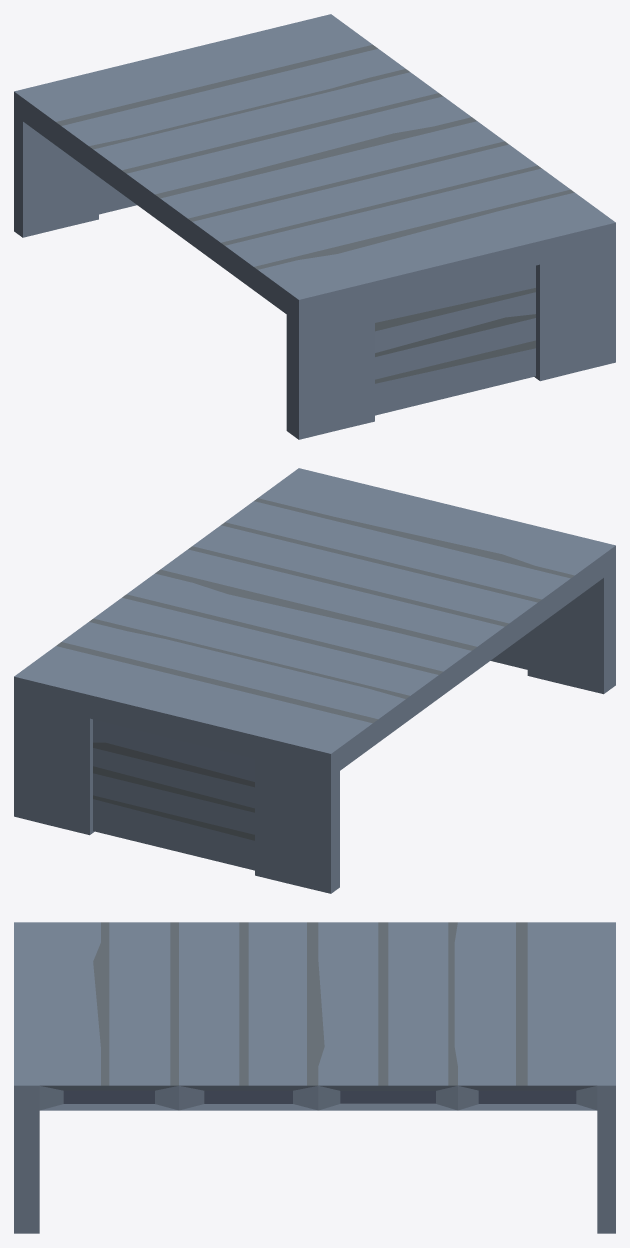
File: Prop_Coffeetable_GreyPalette.fbx
3 renders of one model, top to bottom at view 1: azimuth 30°, elevation 25°; view 2: azimuth 150°, elevation 25°; view 3: azimuth 270°, elevation 25°, orthographic. The views are drawn at different scales.
Visible parts, largest first — view 1: Cube.101; view 2: Cube.101; view 3: Cube.101.
Part boxes in pixels (x1,y1,x2,y2): Cube.101: (14,14,615,439); Cube.101: (14,468,615,893); Cube.101: (14,922,615,1233).
Bounding box in the file's own units: 80.25 × 33.9 × 125.
